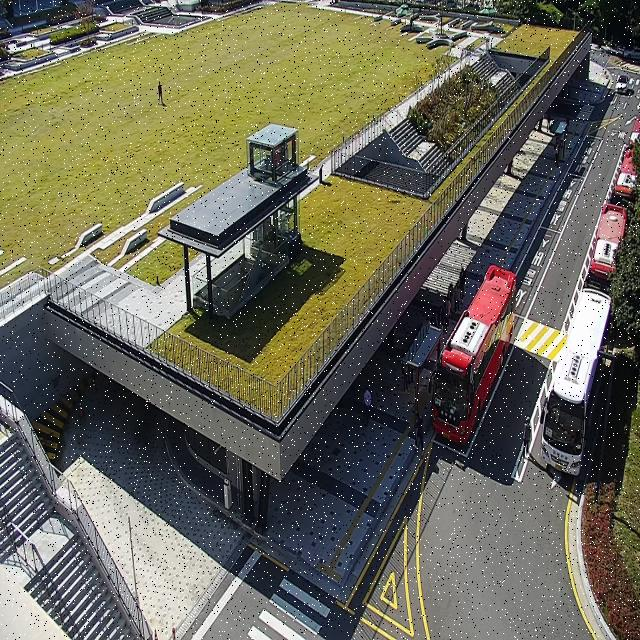queue: (404, 268, 464, 398)
